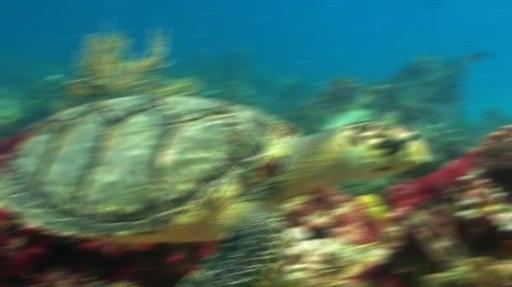Fish: (0, 97, 426, 286)
